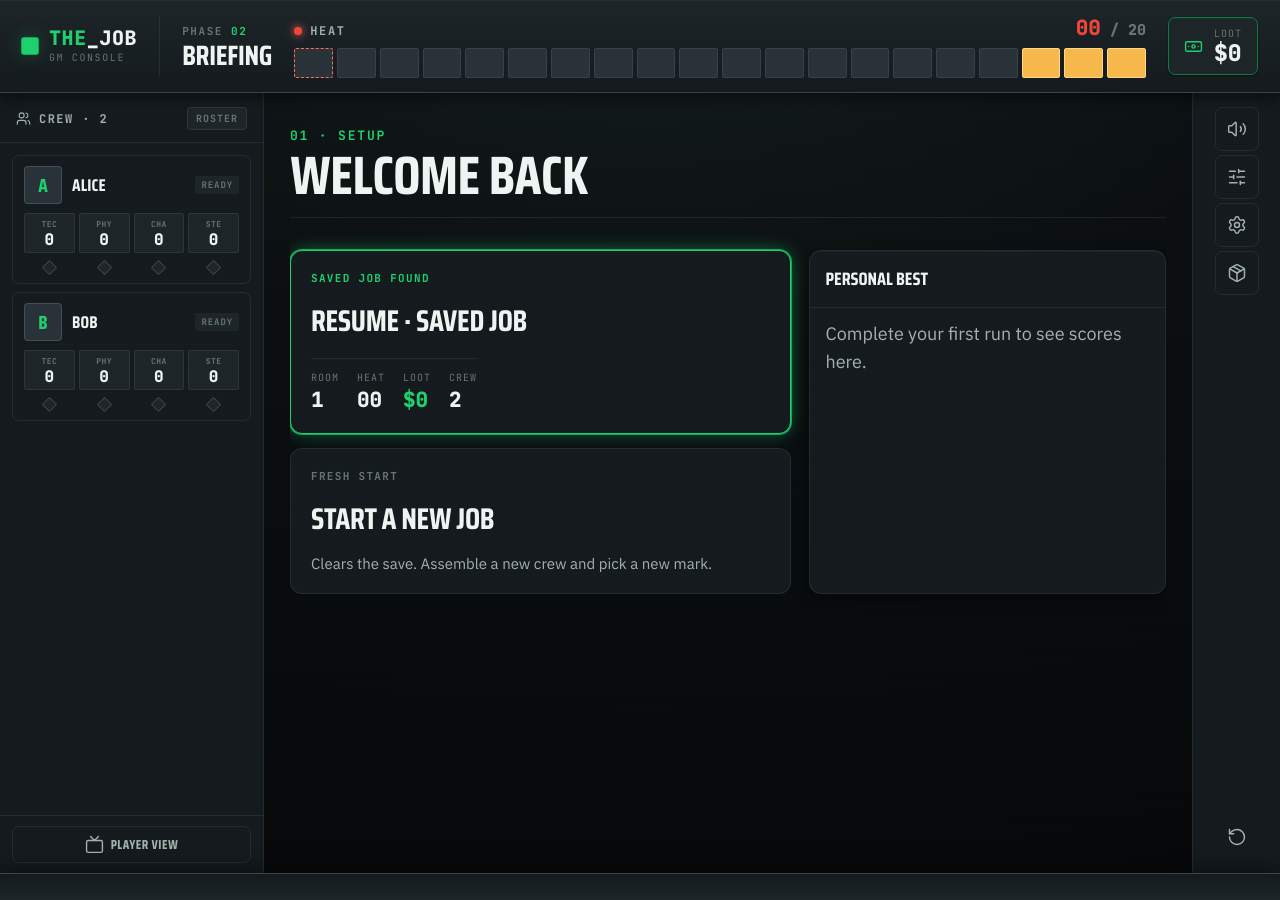
Resume flow › shows Resume/New when a valid save is present, Resume routes to active phase
expect the button with test id "btn-new-job" is shown: met, box [290, 448, 790, 594]
What coordinates should you click on to do the following:
click the button with test id "btn-resume"
I would click on:
 (370, 278)
Its box is [290, 250, 790, 434].
(page scrolled)
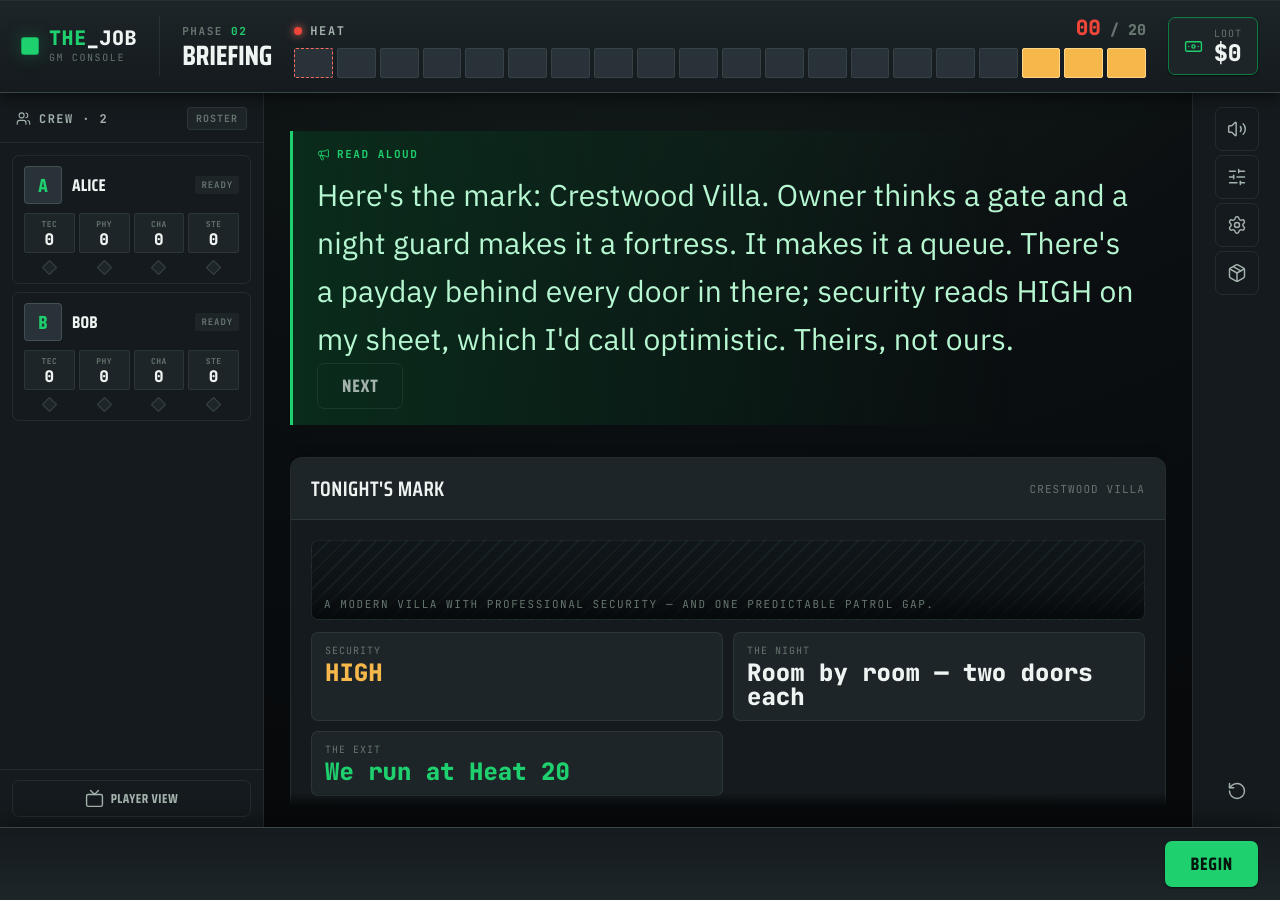
expect the element with test id "screen-briefing" is shown: met, box [290, 113, 1166, 807]
